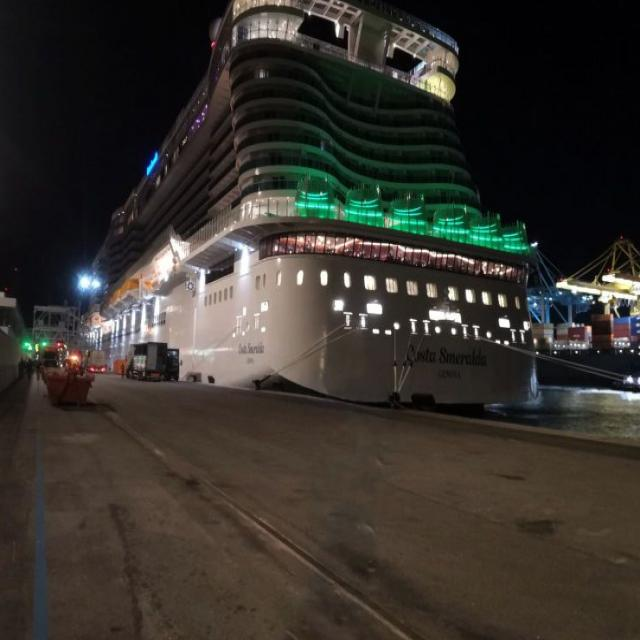cruises: (77, 1, 567, 414)
